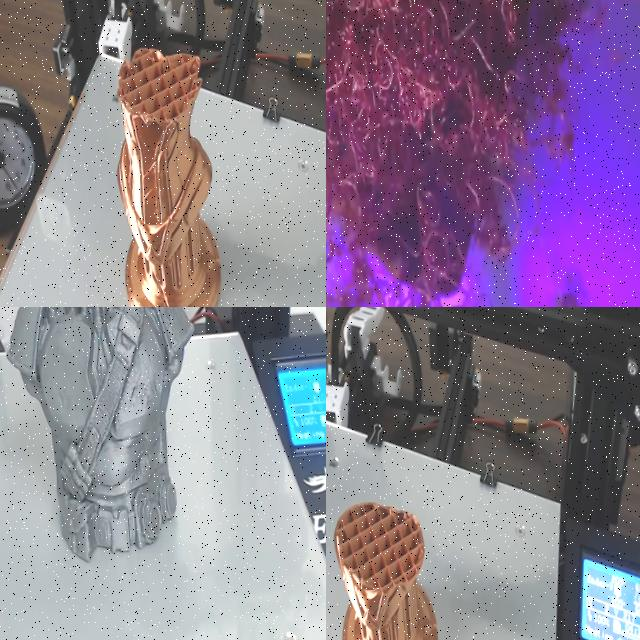spaghetti: (326, 0, 593, 298), (326, 243, 488, 307), (541, 274, 598, 307)
